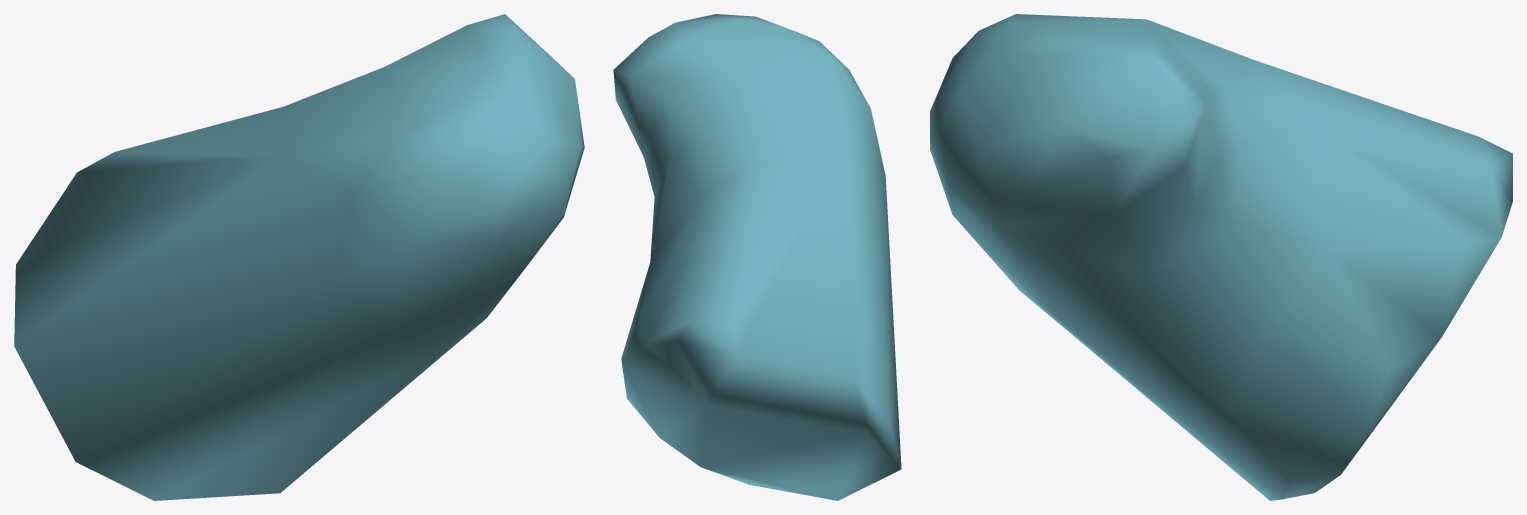
3 renders of one model, left to right at view 1: azimuth 30°, elevation 25°; view 2: azimuth 150°, elevation 25°; view 3: azimuth 270°, elevation 25°, orthographic. The views are drawn at different scales.
Parts seen in each view (by area): view 1: 右侧小角软骨; view 2: 右侧小角软骨; view 3: 右侧小角软骨.
Boxes of the visible parts, box(x1,y1,x2,y2) form: 右侧小角软骨: box(14, 14, 584, 500); 右侧小角软骨: box(613, 14, 901, 500); 右侧小角软骨: box(930, 14, 1512, 500).
Size of the model in its own units: 0.00223 by 0.00233 by 0.0023.
